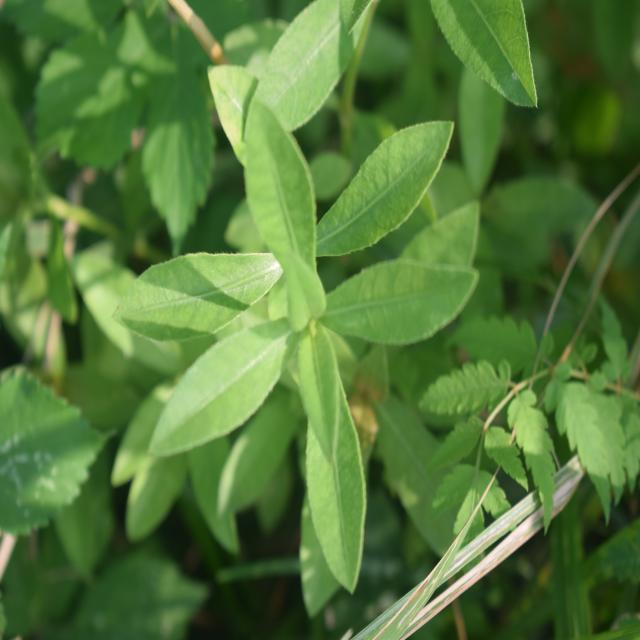Alligatorweed: (138, 82, 450, 556)
